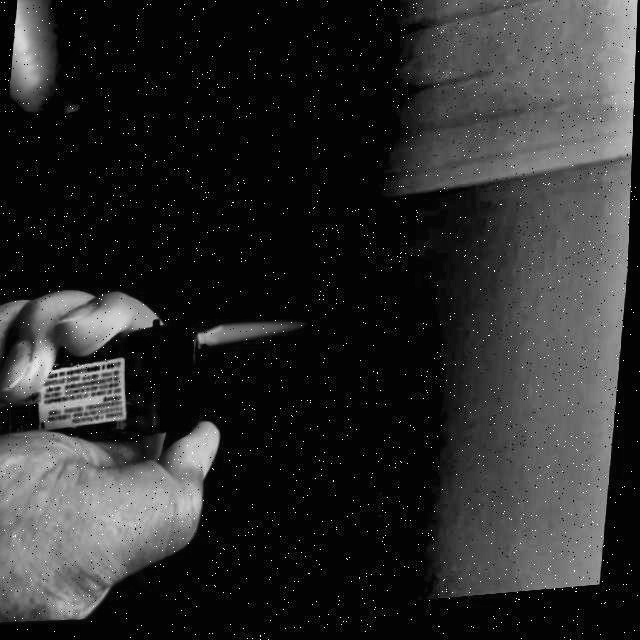Fire: (204, 317, 323, 360)
